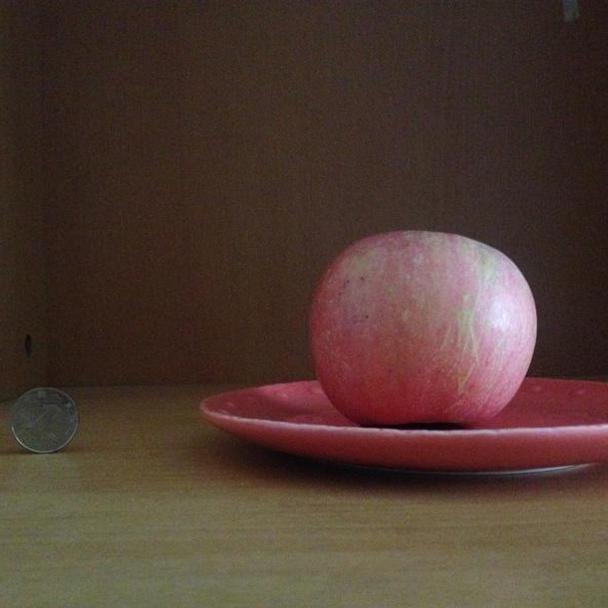apple: (305, 226, 541, 429)
